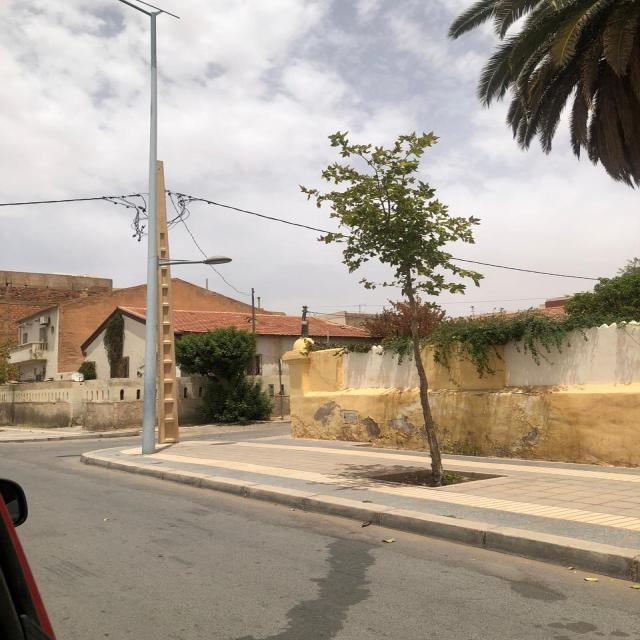Electric pole: (119, 0, 171, 455), (119, 0, 165, 455), (156, 265, 179, 444), (156, 160, 169, 262)
